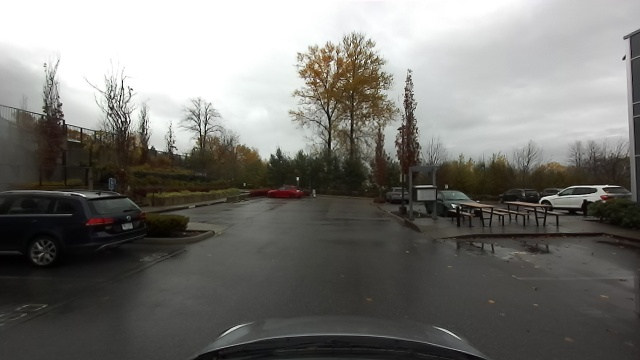car: (1, 188, 148, 267), (543, 182, 625, 211), (429, 193, 471, 219), (496, 189, 540, 202), (266, 185, 302, 199), (390, 187, 408, 204)
